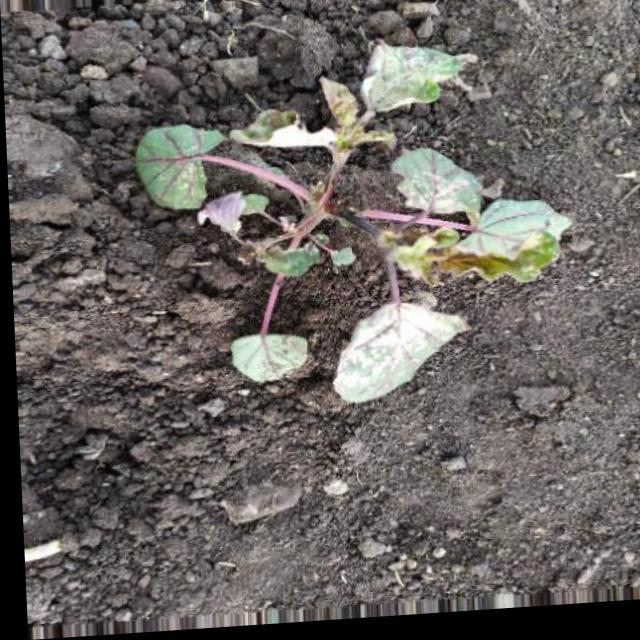weed: (122, 16, 576, 478)
